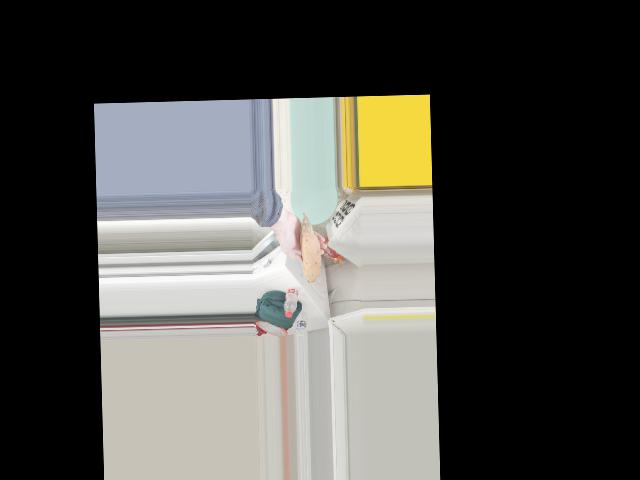sweet_potato: (298, 215, 321, 283)
